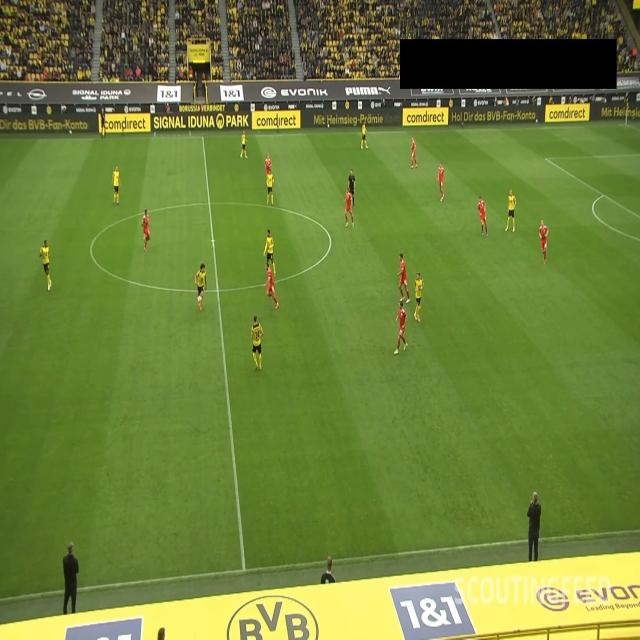ball: (196, 294, 202, 304)
